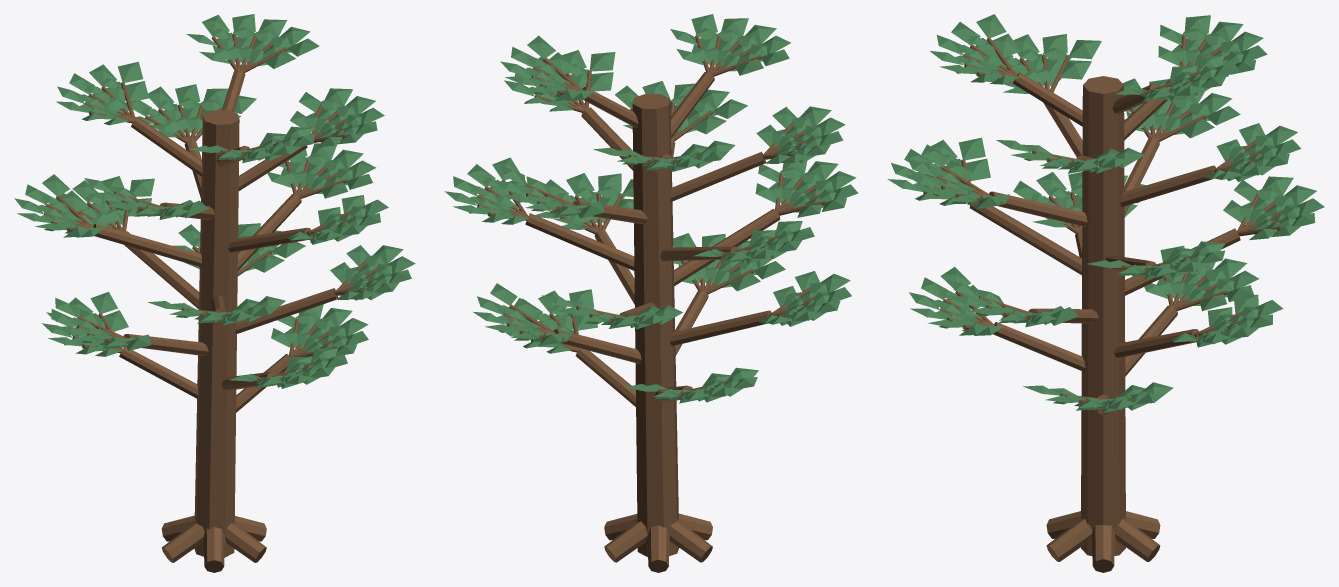
3 views of the same model, side by side, from view 1: azimuth 30°, elevation 25°; view 2: azimuth 150°, elevation 25°; view 3: azimuth 270°, elevation 25° (orthographic). The views are drawn at different scales.
Parts seen in each view (by area): view 1: WW-148 Oval leaf smooth bark beech tree batched; view 2: WW-148 Oval leaf smooth bark beech tree batched; view 3: WW-148 Oval leaf smooth bark beech tree batched.
Part boxes in pixels (x1,y1,x2,y2): WW-148 Oval leaf smooth bark beech tree batched: (14,14,415,572); WW-148 Oval leaf smooth bark beech tree batched: (445,14,858,572); WW-148 Oval leaf smooth bark beech tree batched: (887,14,1324,572).
Size of the model in its own units: 1.98 by 2.64 by 2.03.
